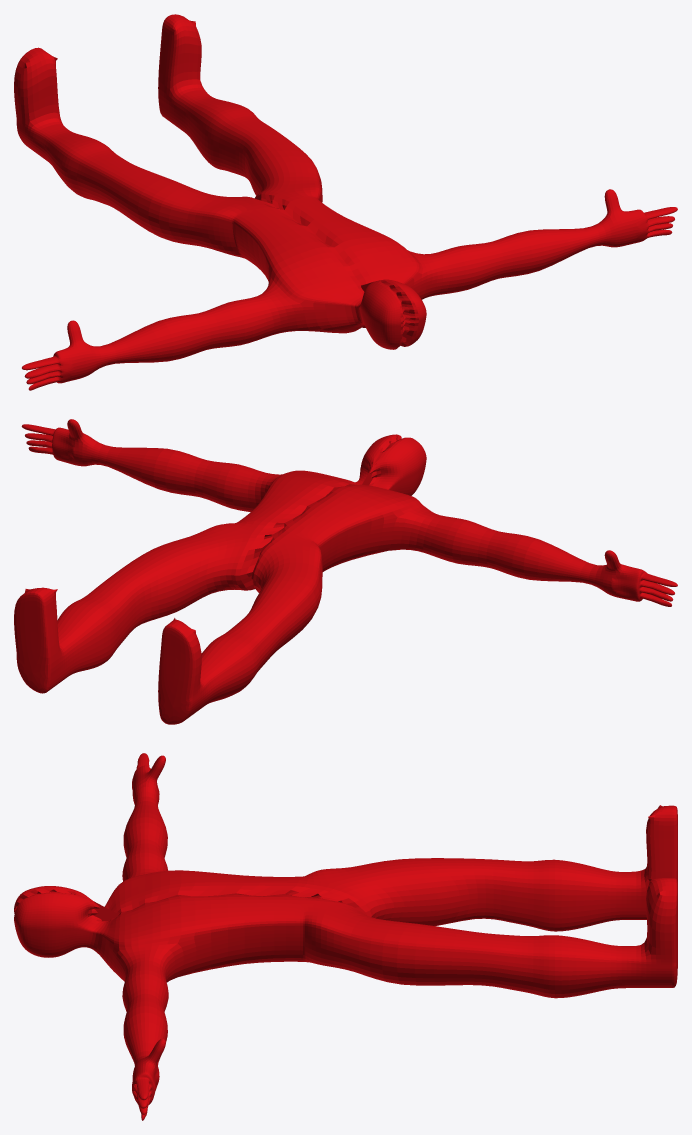
The model's file is basic_humanoid.fbx.
3 renders of one model, top to bottom at view 1: azimuth 30°, elevation 25°; view 2: azimuth 150°, elevation 25°; view 3: azimuth 270°, elevation 25°, orthographic. The views are drawn at different scales.
Parts seen in each view (by area): view 1: Cube; view 2: Cube; view 3: Cube.
Part boxes in pixels (left/top/right/bottom): Cube: left=14, top=14, right=677, bottom=390; Cube: left=14, top=419, right=677, bottom=724; Cube: left=14, top=753, right=677, bottom=1120.
Size of the model in its own units: 33.56 by 5.5 by 27.27.
